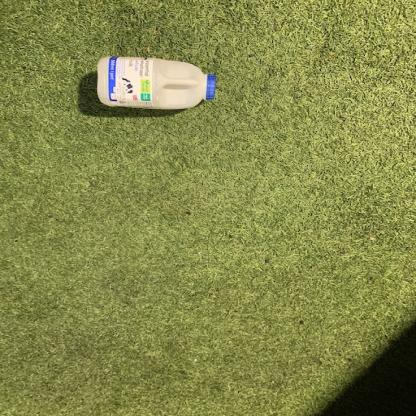trash: (97, 55, 217, 110)
